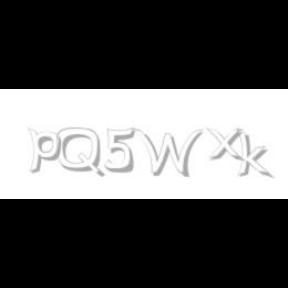5: (104, 128, 136, 174)
Q: (57, 128, 103, 178)
W: (131, 128, 203, 178)
k: (236, 128, 274, 180)
p: (29, 128, 66, 174)
x: (206, 128, 248, 162)
